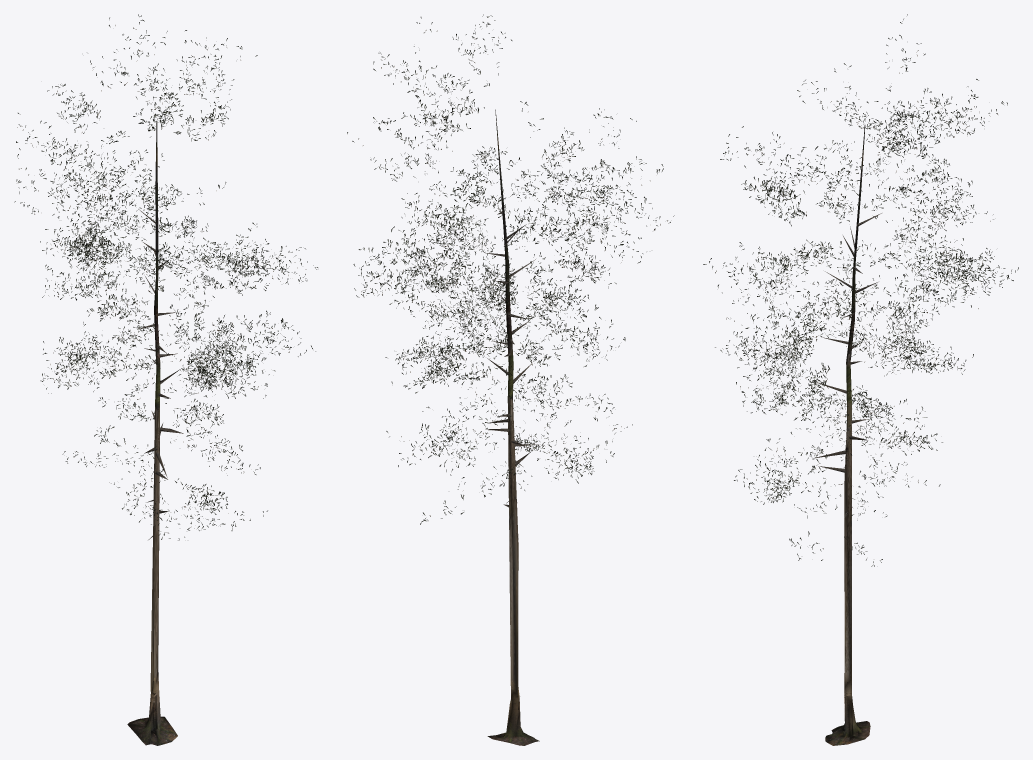
Rendered from roman-pine_tree_01-lod.glb.
The picture shows the model from 3 angles, left to right: view 1: azimuth 30°, elevation 25°; view 2: azimuth 150°, elevation 25°; view 3: azimuth 270°, elevation 25°; orthographic projection. The views are drawn at different scales.
Visible parts, largest first — view 1: pine_tree_01_a_LOD0; view 2: pine_tree_01_a_LOD0; view 3: pine_tree_01_a_LOD0.
Part boxes in pixels (x1,y1,x2,y2): pine_tree_01_a_LOD0: [14, 14, 317, 745]; pine_tree_01_a_LOD0: [347, 14, 674, 745]; pine_tree_01_a_LOD0: [703, 14, 1018, 745].
Size of the model in its own units: 7.39 by 20.31 by 8.09.
4 materials, 4 textured.
